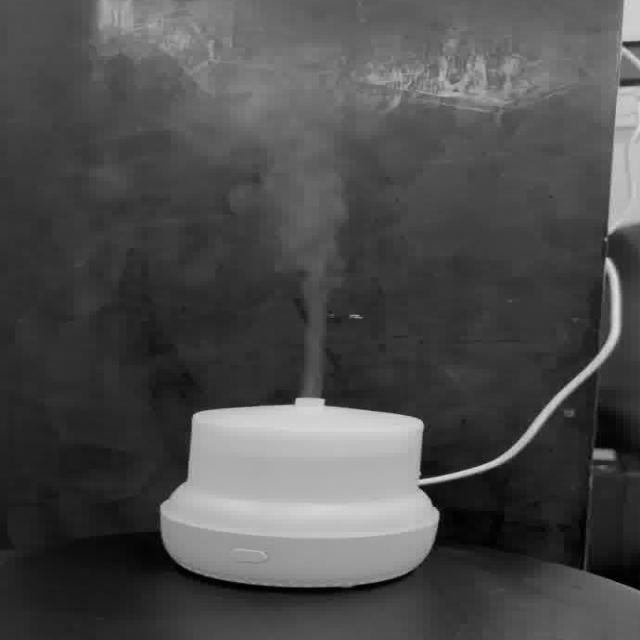fire: (187, 86, 376, 394)
